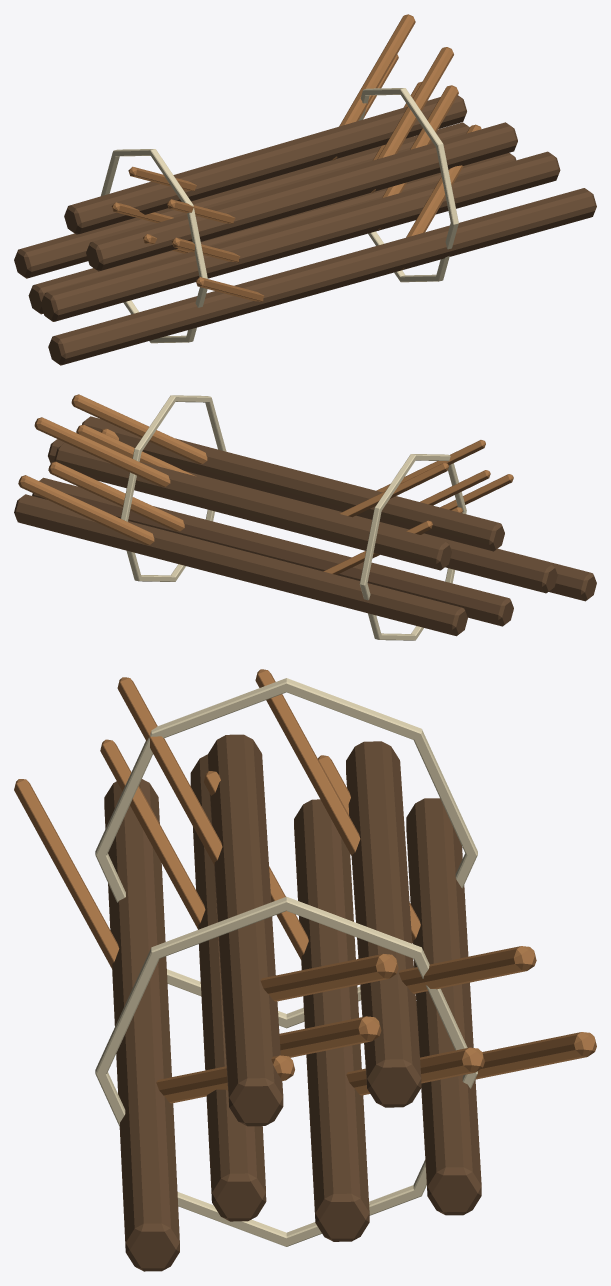
The model's file is b04_curbside_tied_brush_bundle.glb.
3 renders of one model, top to bottom at view 1: azimuth 30°, elevation 25°; view 2: azimuth 150°, elevation 25°; view 3: azimuth 270°, elevation 25°, orthographic. The views are drawn at different scales.
Parts seen in each view (by area): view 1: b04_curbside_tied_brush_bundle; view 2: b04_curbside_tied_brush_bundle; view 3: b04_curbside_tied_brush_bundle.
Boxes of the visible parts, x1,y1,x2,y2 form: b04_curbside_tied_brush_bundle: (14, 14, 596, 365); b04_curbside_tied_brush_bundle: (14, 394, 596, 640); b04_curbside_tied_brush_bundle: (14, 669, 596, 1271).
Size of the model in its own units: 1.3 by 0.4618 by 0.6761.
